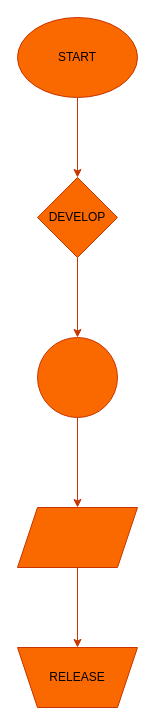
This 155x725 diagram has some shape labels left out. The shapes that lost their labels are listed below. From the top down, each one's box as (x1, y1, x2, y2) in pixels, then its label:
(36, 336, 118, 418): BUILD
(16, 506, 138, 568): TEST
